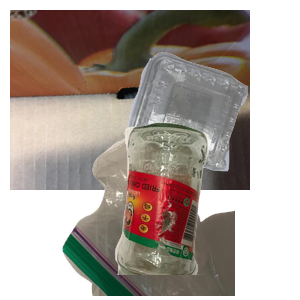cardboard: (10, 10, 250, 190)
glass: (112, 120, 300, 300)
plastic: (123, 50, 300, 214)
trash: (60, 120, 300, 300)
